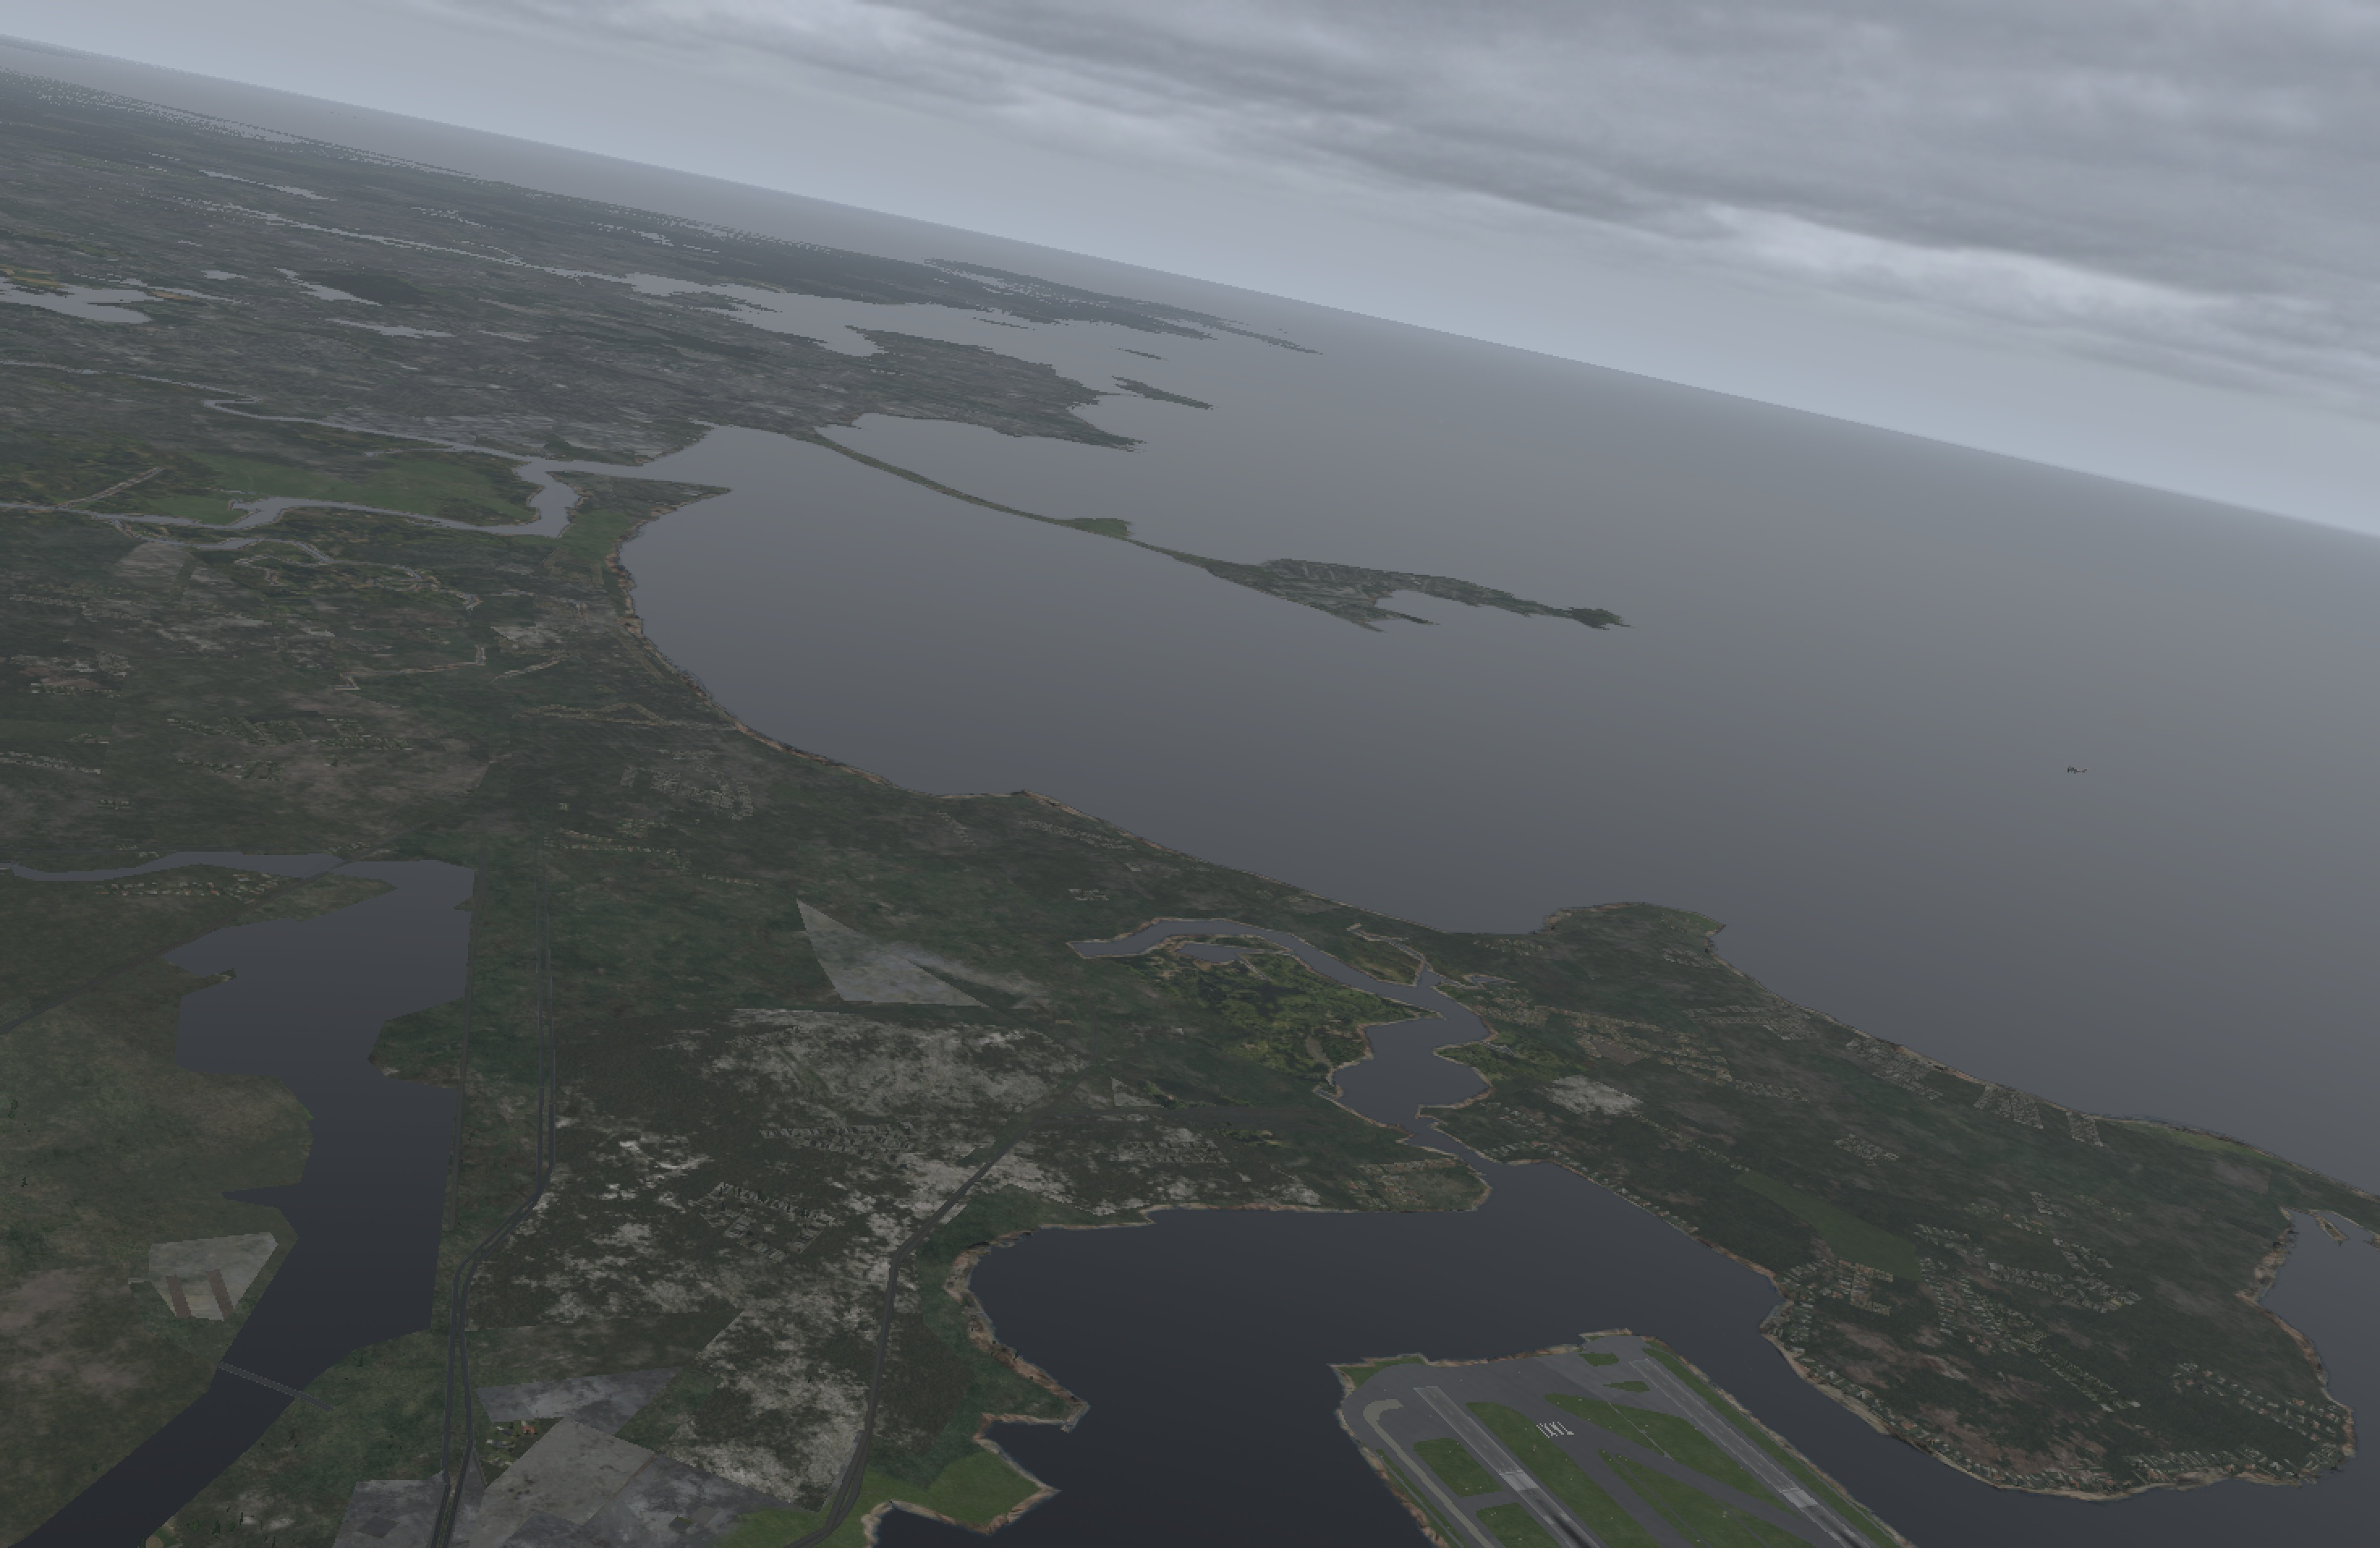aircraft: (2064, 765, 2082, 772)
